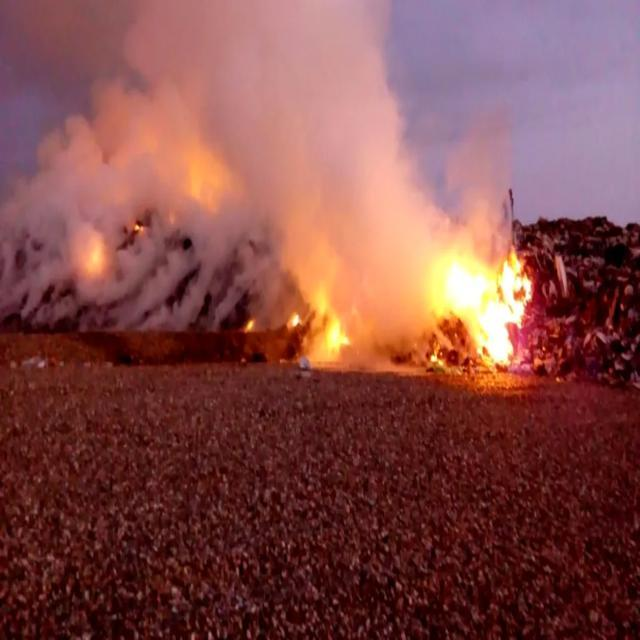Fire: (428, 233, 534, 374), (276, 307, 354, 373)
Smoke: (0, 0, 439, 288)
